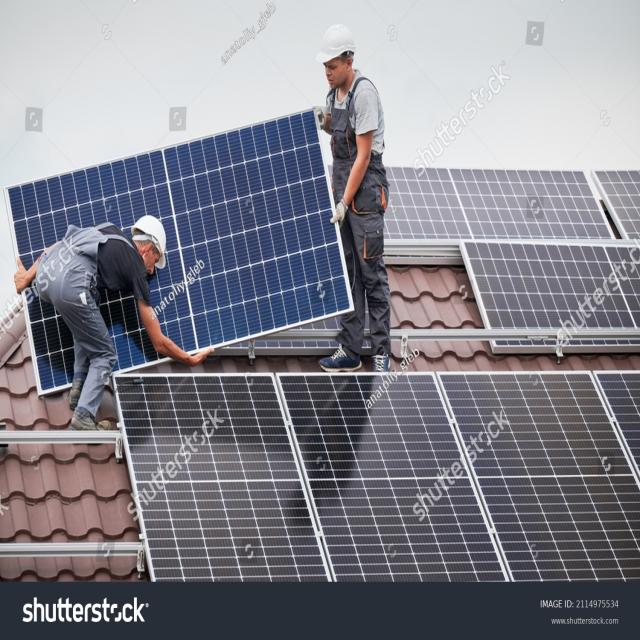clean-solar-panel: (115, 374, 640, 581), (386, 167, 640, 331)
